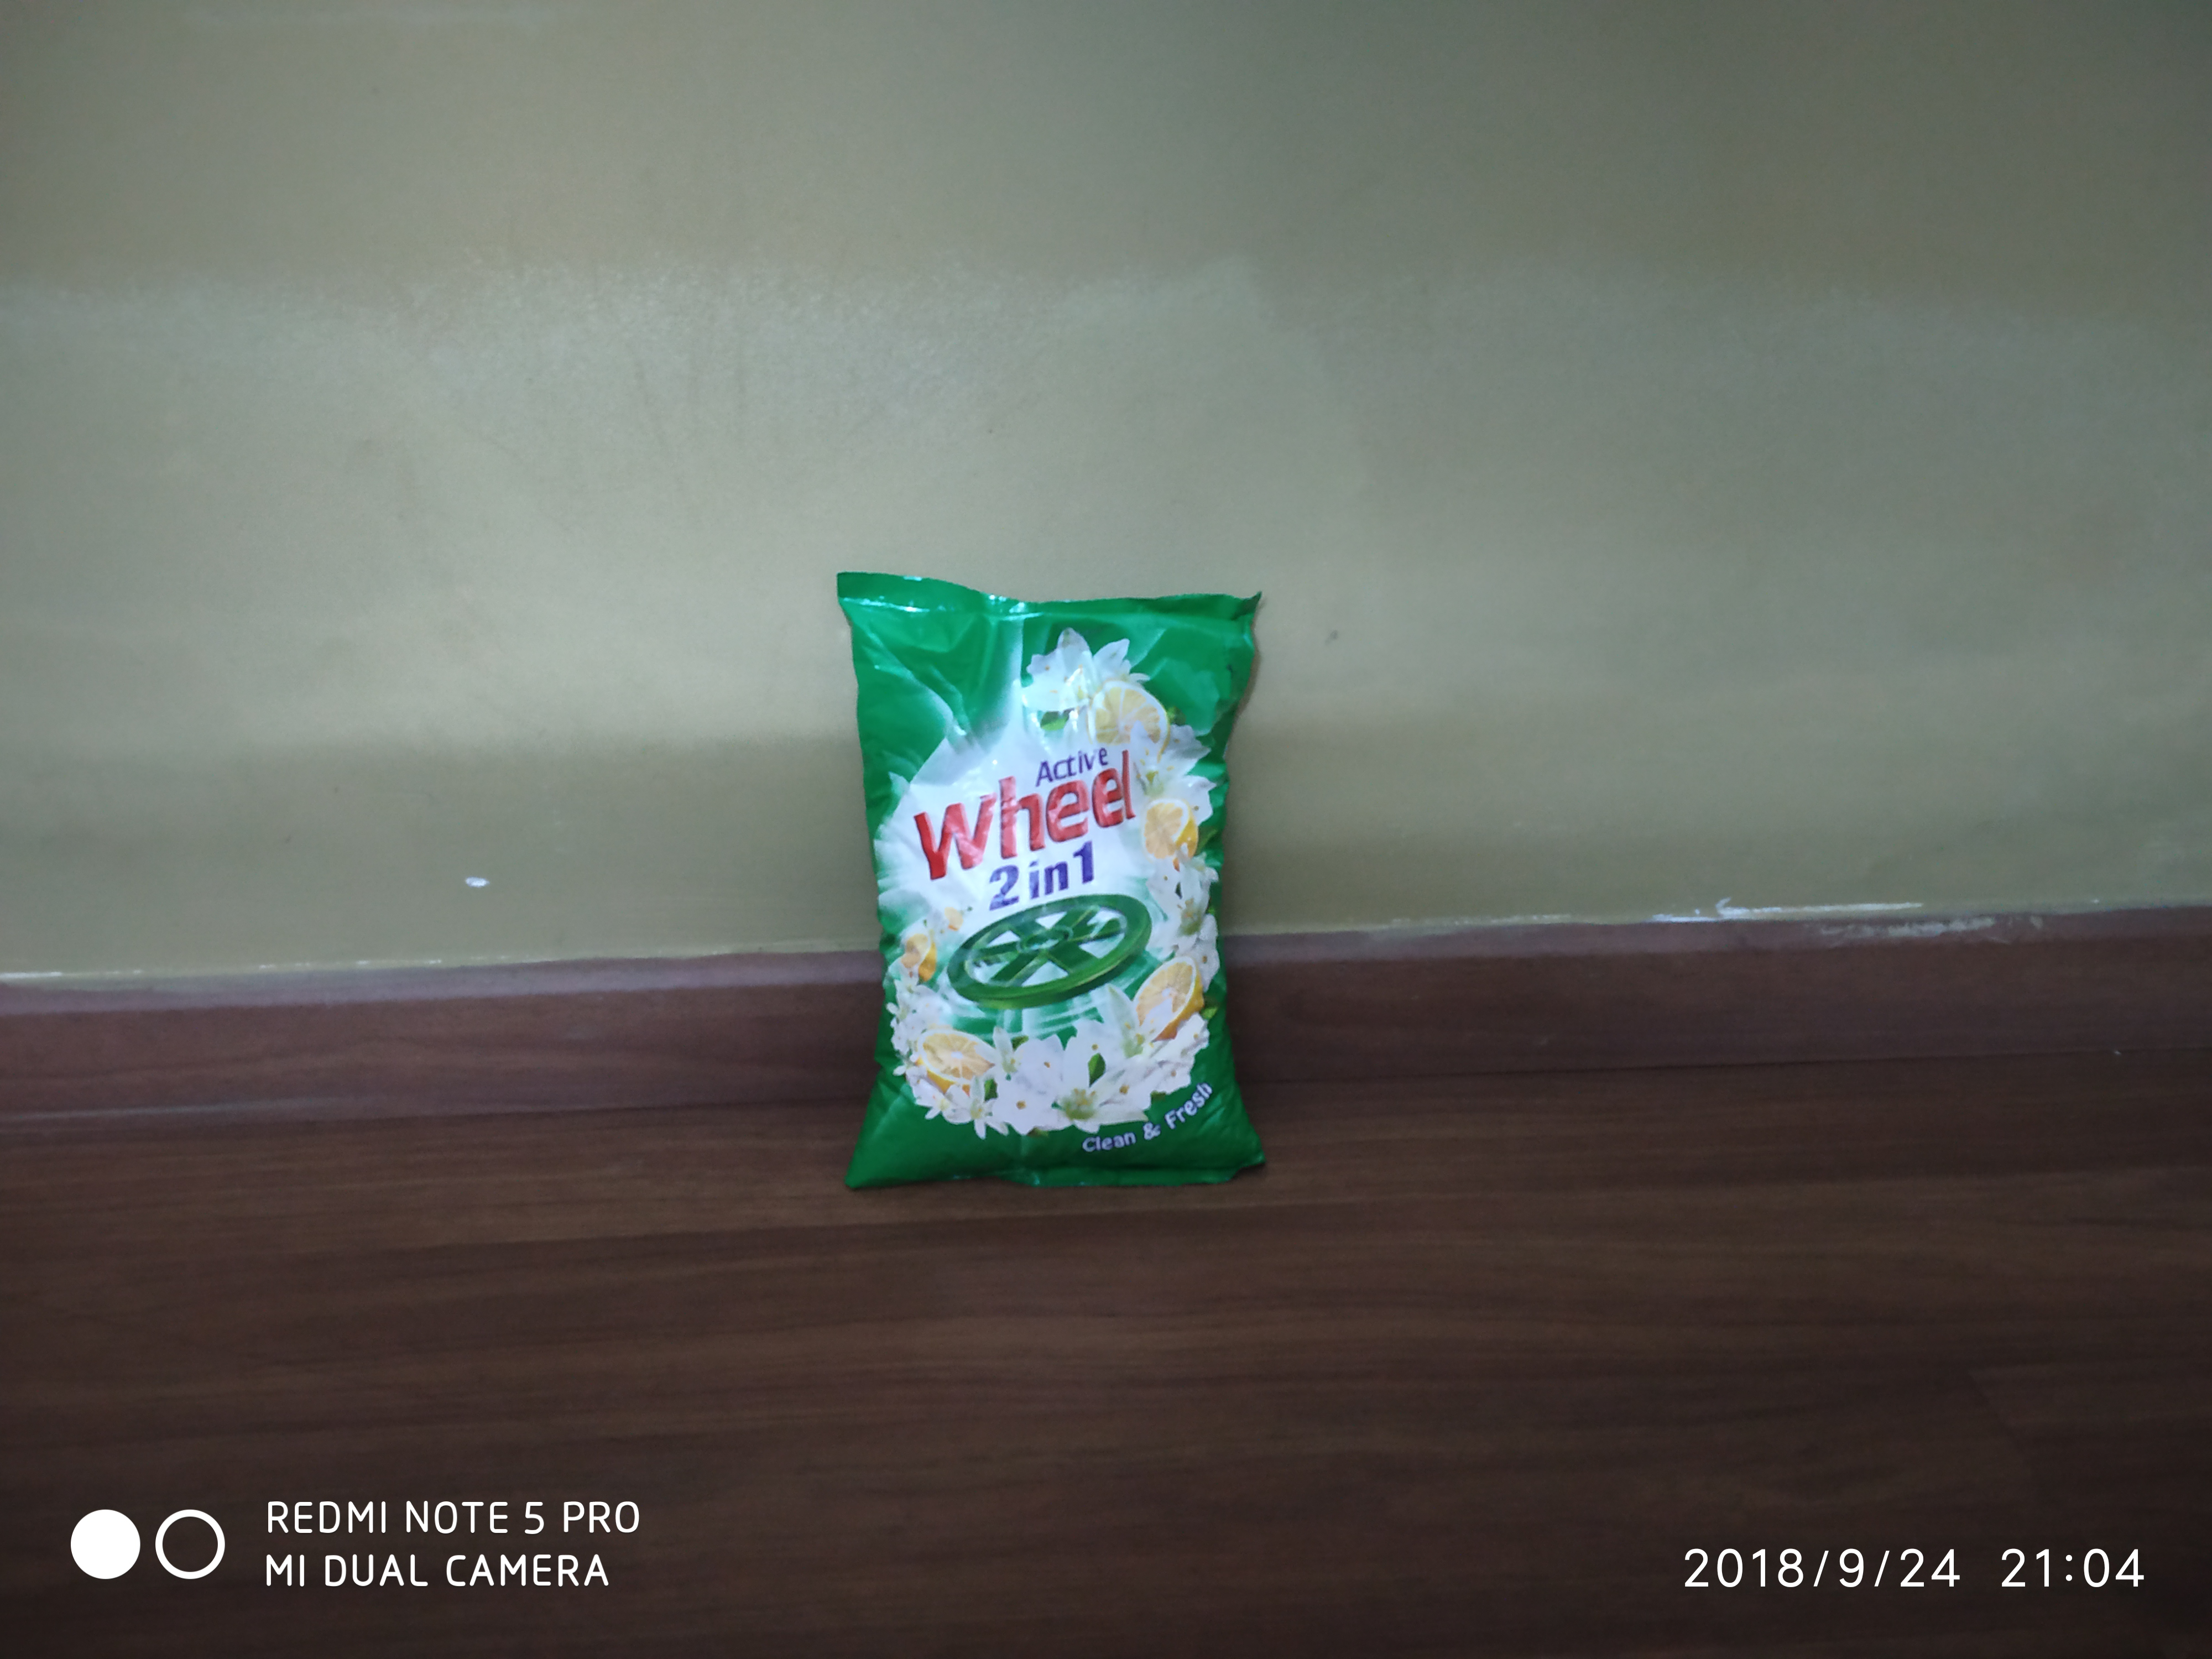detergent: (828, 575, 1268, 1178)
